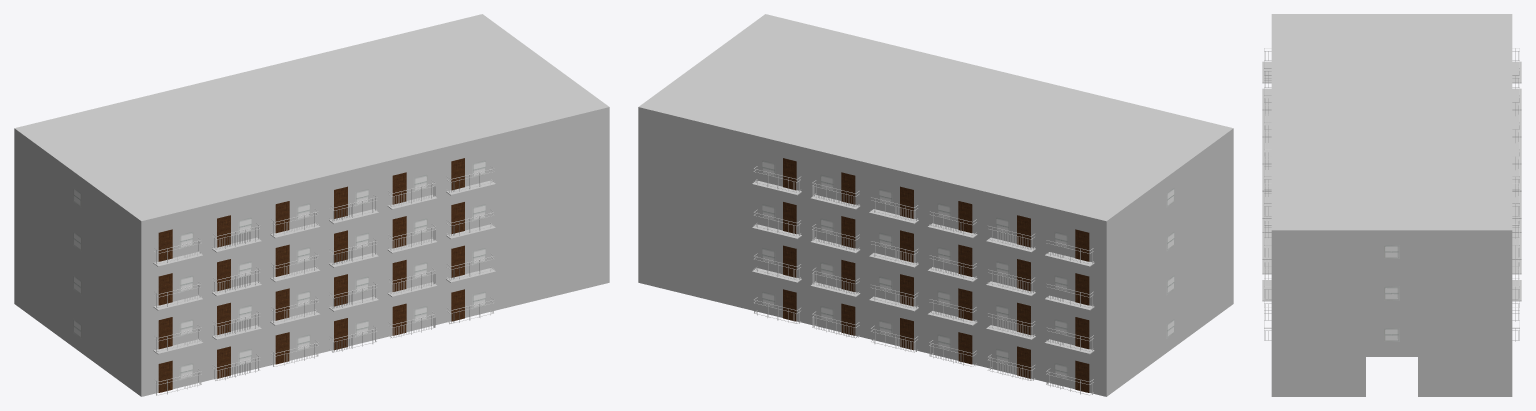
File: Hostel_A.glb
3 renders of one model, left to right at view 1: azimuth 30°, elevation 25°; view 2: azimuth 150°, elevation 25°; view 3: azimuth 270°, elevation 25°, orthographic. The views are drawn at different scales.
Parts seen in each view (by area): view 1: Cube.025, Cube.001, Cube.012, Cube.011, Cube.007, Cube.018, Cube.004, Cube.017, Cube.016, Cube, Cube.010, Cube.063 (+5 smaller); view 2: Cube.025, Cube, Cube.010, Cube.064, Cube.063, Cube.003, Cube.019, Cube.021, Cube.020, Cube.001, Cube.007, Cube.011 (+7 smaller); view 3: Cube.025, Cube.022, Cube.005, Cube.006, Plane.106.
Boxes of the visible parts, x1,y1,x2,y2 form: Cube.025: (14,14,609,222); Cube.001: (90,136,492,265); Cube.012: (90,185,492,309); Cube.011: (90,229,492,352); Cube.007: (90,273,492,396); Cube.018: (492,151,609,223); Cube.004: (492,108,609,179); Cube.017: (492,195,609,266); Cube.016: (492,239,609,310); Cube: (14,129,65,209); Cube.010: (14,173,65,253); Cube.063: (14,260,65,341); Cube.025: (638,14,1233,221); Cube: (755,136,1157,265); Cube.010: (755,185,1157,309); Cube.064: (755,229,1157,352); Cube.063: (755,273,1157,396); Cube.003: (638,108,755,179); Cube.019: (638,239,755,310); Cube.021: (638,151,755,223); Cube.020: (638,195,755,266); Cube.001: (1182,129,1233,209); Cube.007: (1182,260,1233,341); Cube.011: (1182,216,1233,297); Cube.025: (1271,14,1512,231); Cube.022: (1273,231,1510,355); Cube.005: (1418,355,1509,396); Cube.006: (1274,355,1365,396); Plane.106: (1384,286,1399,300).
Size of the model in its own units: 33.7 by 12.2 by 17.
151 materials, 151 textured.
